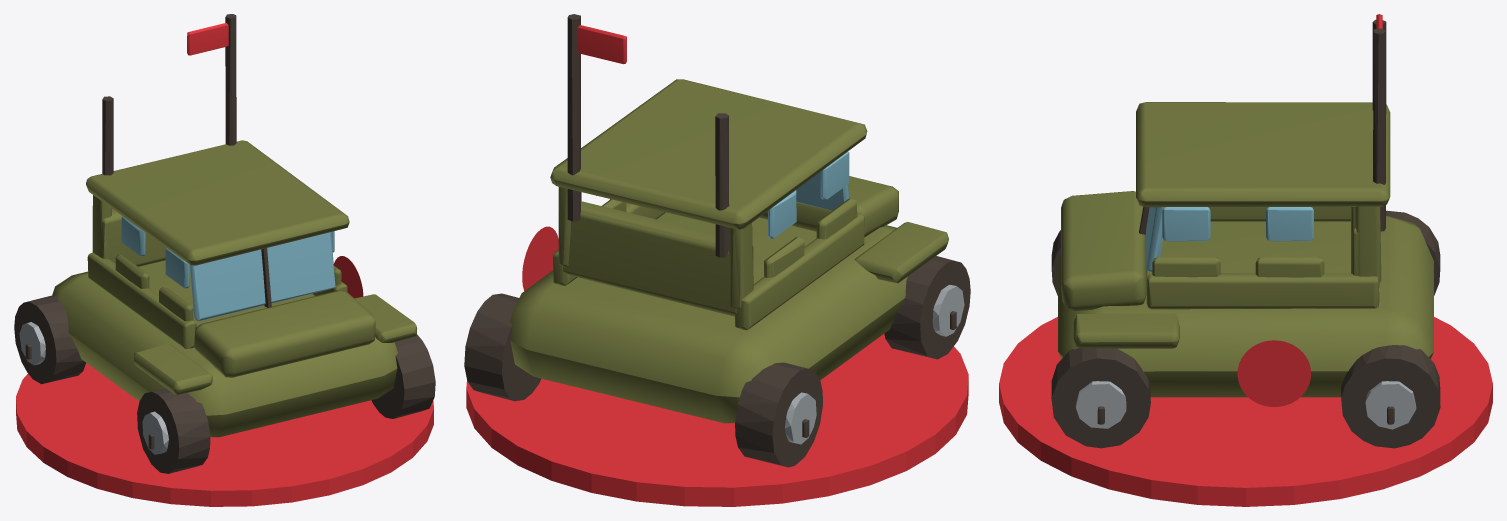
Rendered from japan_commander_lod0.glb.
3 views of the same model, side by side, from view 1: azimuth 30°, elevation 25°; view 2: azimuth 150°, elevation 25°; view 3: azimuth 270°, elevation 25° (orthographic). The views are drawn at different scales.
Parts seen in each view (by area): view 1: body_hull, base_pedestal; view 2: body_hull, base_pedestal; view 3: body_hull, base_pedestal.
Part boxes in pixels (<box>): body_hull: <box>14,14,435,473</box>; base_pedestal: <box>16,363,433,506</box>; body_hull: <box>464,14,970,467</box>; base_pedestal: <box>466,334,968,506</box>; body_hull: <box>1051,14,1440,448</box>; base_pedestal: <box>999,317,1492,506</box>.
Size of the model in its own units: 0.78 by 0.7101 by 0.78.
